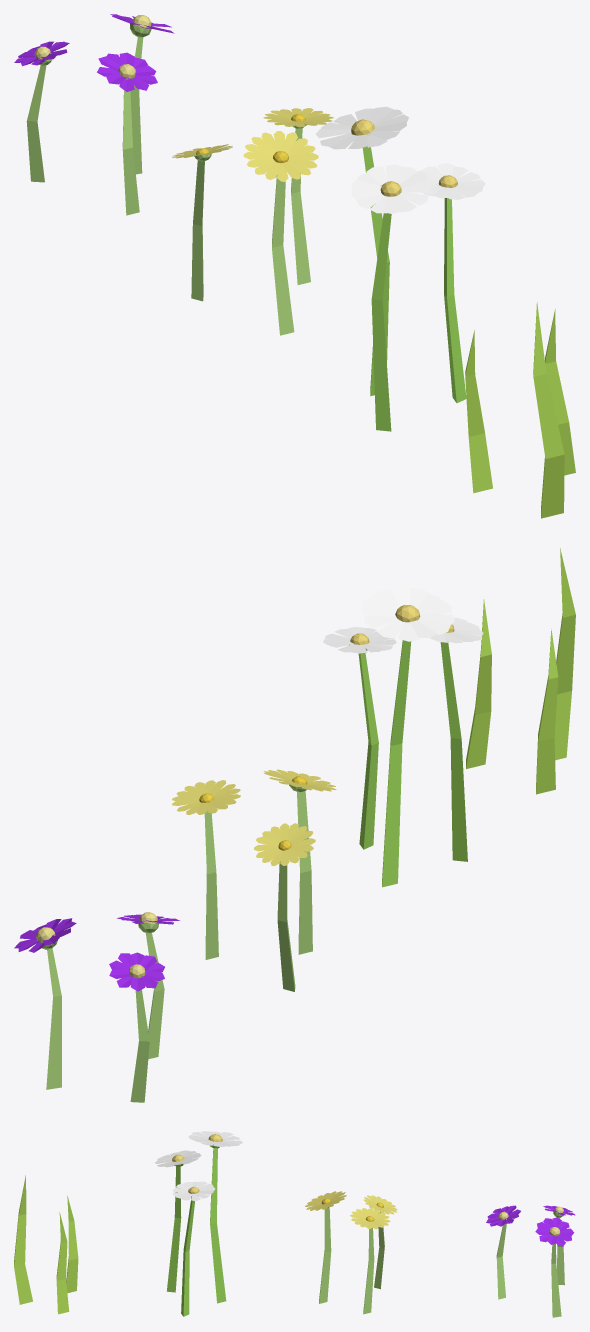
File: flower.glb
The picture shows the model from 3 angles, top to bottom: view 1: azimuth 30°, elevation 25°; view 2: azimuth 150°, elevation 25°; view 3: azimuth 270°, elevation 25°; orthographic projection. The views are drawn at different scales.
Visible parts, largest first — view 1: Cylinder, Cylinder.002, Cylinder.001, Cylinder.003; view 2: Cylinder, Cylinder.002, Cylinder.003, Cylinder.001; view 3: Cylinder, Cylinder.002, Cylinder.001, Cylinder.003.
Boxes of the visible parts, bbox=[...] form: Cylinder: bbox=[316, 106, 485, 431]; Cylinder.002: bbox=[172, 108, 333, 335]; Cylinder.001: bbox=[465, 302, 575, 518]; Cylinder.003: bbox=[14, 14, 174, 215]; Cylinder: bbox=[323, 585, 483, 887]; Cylinder.002: bbox=[172, 769, 336, 991]; Cylinder.003: bbox=[14, 912, 179, 1102]; Cylinder.001: bbox=[466, 548, 575, 794]; Cylinder: bbox=[155, 1131, 242, 1316]; Cylinder.002: bbox=[305, 1191, 397, 1314]; Cylinder.001: bbox=[14, 1175, 78, 1314]; Cylinder.003: bbox=[486, 1205, 575, 1317].
Bounding box in the file's own units: 0.1611 × 0.2942 × 0.9109.
